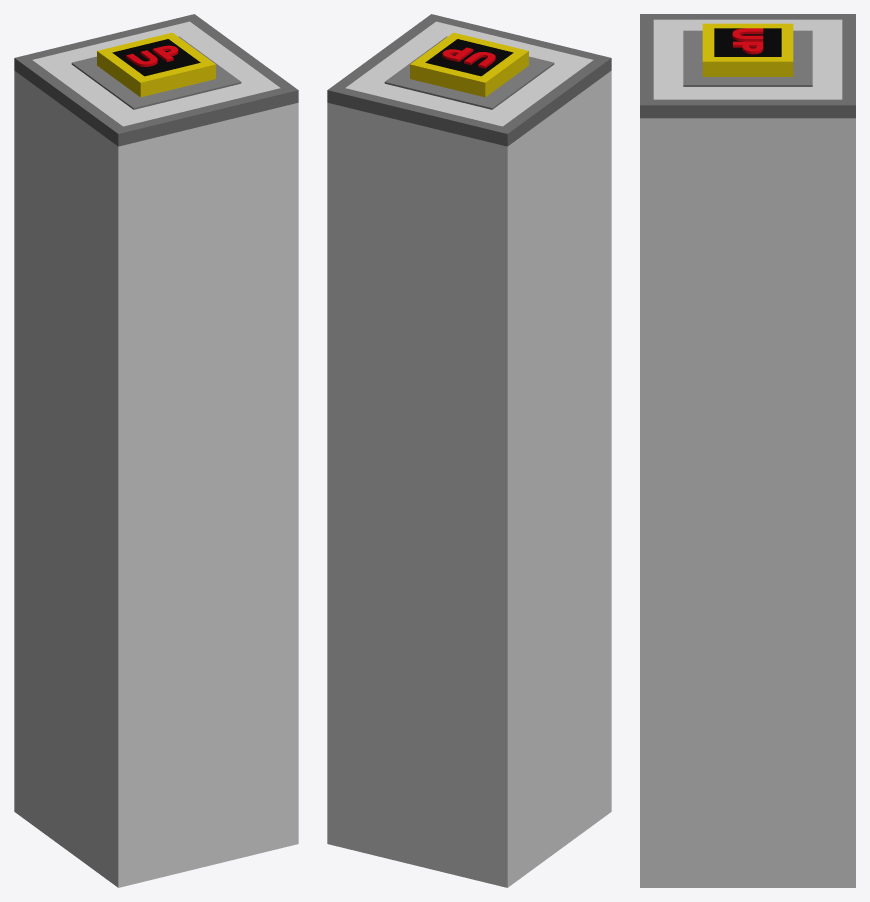
File: white_yellow_up.fbx
3 views of the same model, side by side, from view 1: azimuth 30°, elevation 25°; view 2: azimuth 150°, elevation 25°; view 3: azimuth 270°, elevation 25° (orthographic). The views are drawn at different scales.
Visible parts, largest first — view 1: white_yellow_up; view 2: white_yellow_up; view 3: white_yellow_up.
Part boxes in pixels (box(x1,y1,x2,y2)): white_yellow_up: box(14, 14, 298, 887); white_yellow_up: box(327, 14, 611, 887); white_yellow_up: box(640, 14, 855, 887).
Bounding box in the file's own units: 1 × 4.1 × 1.
